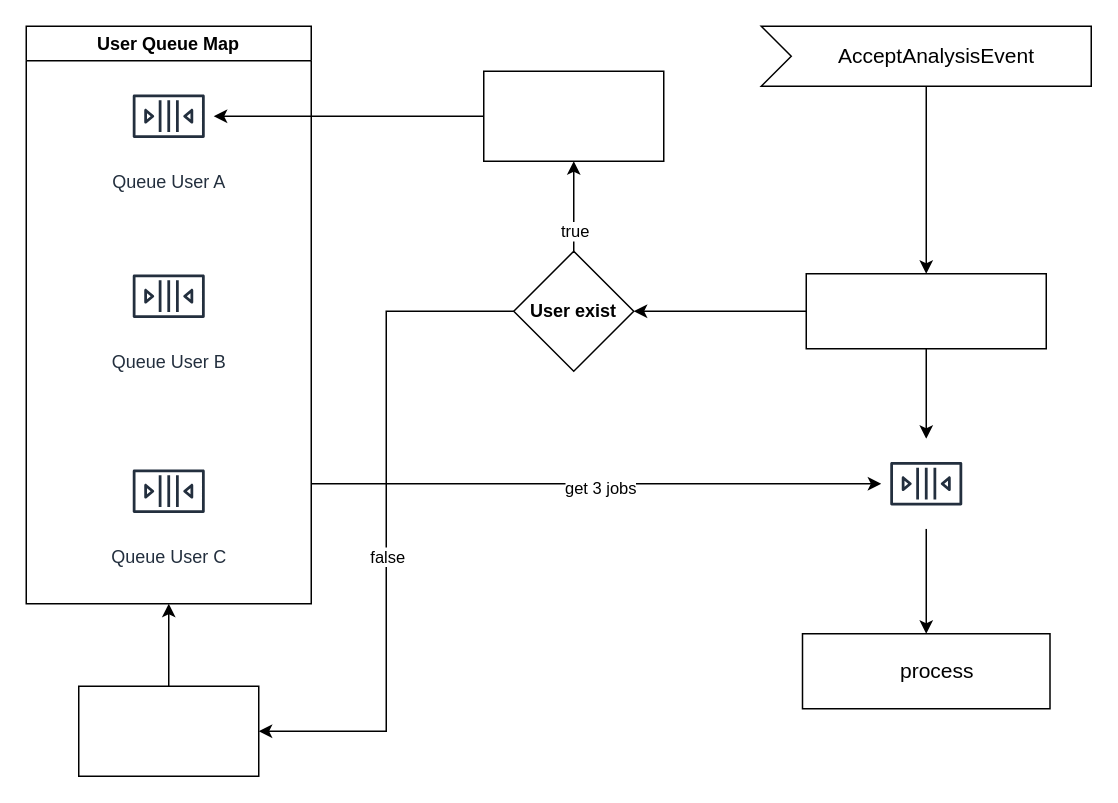
The diagram is 1118 pixels wide and 803 high, and some of its shapes have lost their labels. The shapes that lost their labels are listed below. From the top down, each one's centre as x and y in pixels, then its label:
point 573,115: add job to queue
point 925,310: addJobToUserQueue
point 925,483: ProcessQueue
point 168,730: add queue user d
